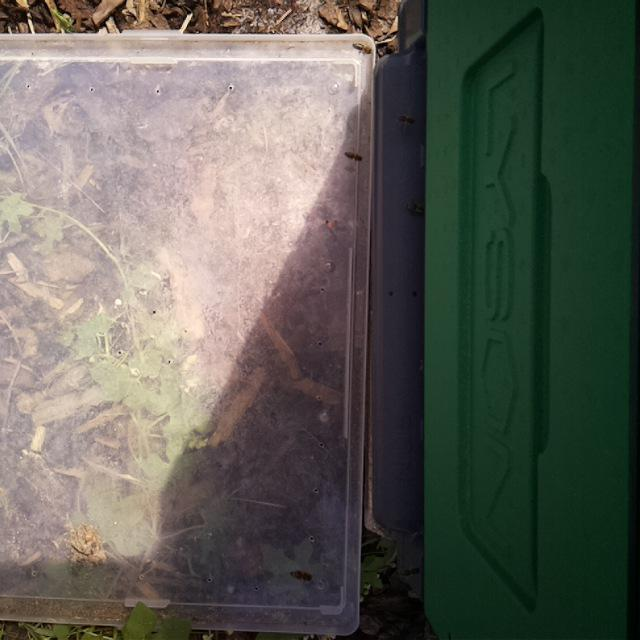worker-bee: (288, 567, 318, 589), (349, 36, 376, 58), (393, 109, 421, 129), (342, 146, 368, 167), (406, 197, 427, 221)
